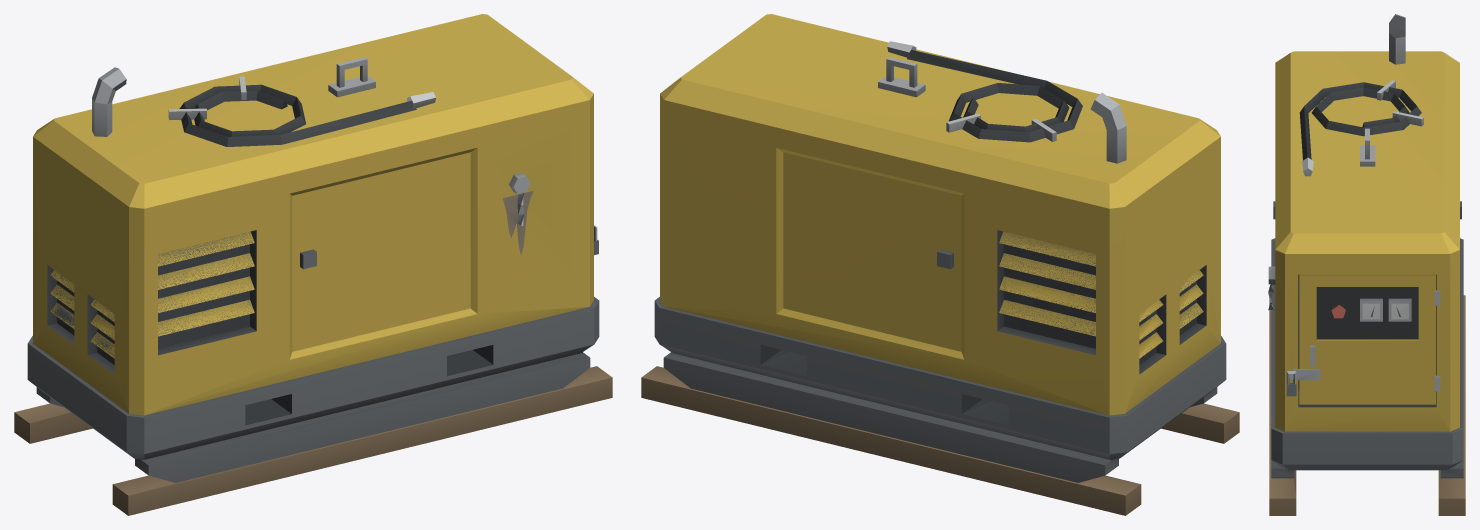
File: generator.glb
The picture shows the model from 3 angles, left to right: view 1: azimuth 30°, elevation 25°; view 2: azimuth 150°, elevation 25°; view 3: azimuth 270°, elevation 25°; orthographic projection. The views are drawn at different scales.
Visible parts, largest first — view 1: generator; view 2: generator; view 3: generator.
Boxes of the visible parts, <box> form: generator: <box>14,14,612,515</box>; generator: <box>641,14,1239,515</box>; generator: <box>1268,14,1465,515</box>.
Size of the model in its own units: 2.5 by 1.86 by 1.03.
